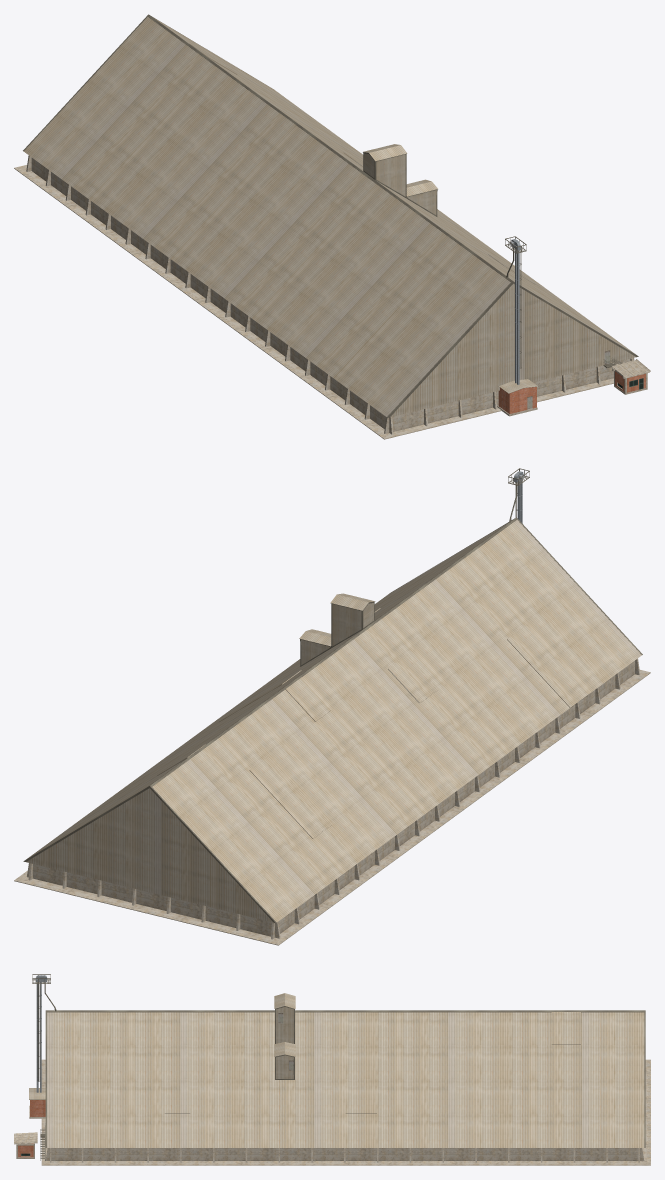
File: plant-building53.glb
3 views of the same model, one above another, from view 1: azimuth 30°, elevation 25°; view 2: azimuth 150°, elevation 25°; view 3: azimuth 270°, elevation 25° (orthographic). The views are drawn at different scales.
Parts seen in each view (by area): view 1: Object8934532; view 2: Object8934532; view 3: Object8934532.
Part boxes in pixels (x1,y1,x2,y2): Object8934532: (14, 14, 650, 439); Object8934532: (14, 468, 650, 945); Object8934532: (14, 974, 650, 1165).
Size of the model in its own units: 45.7 by 27.72 by 117.
1 material, 1 textured.
